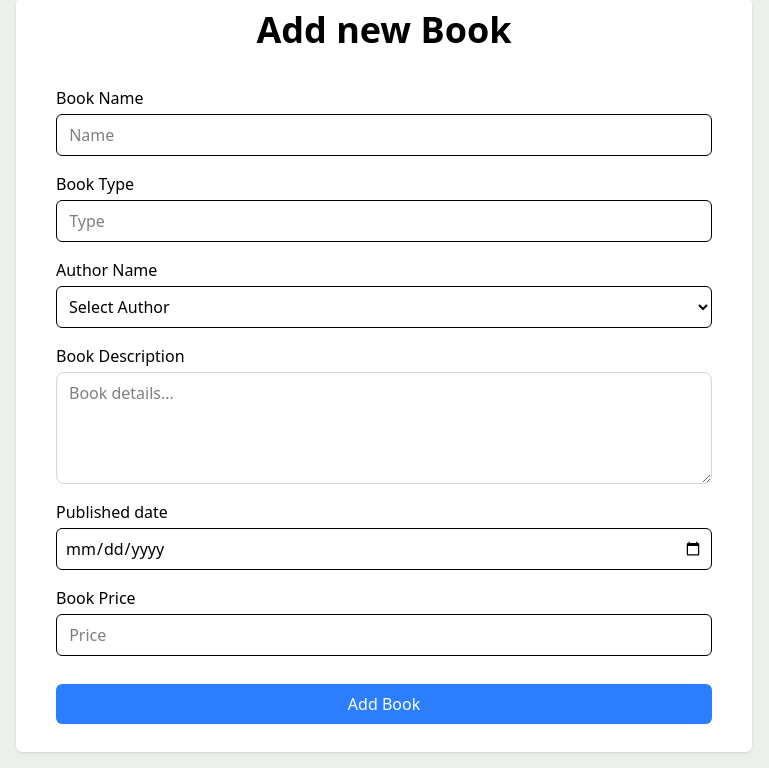
Test: BookForm › validates required fields
The width and height of the screenshot is (769, 768).
Click the button "Add Book" at (384, 704), box [56,684,712,724]
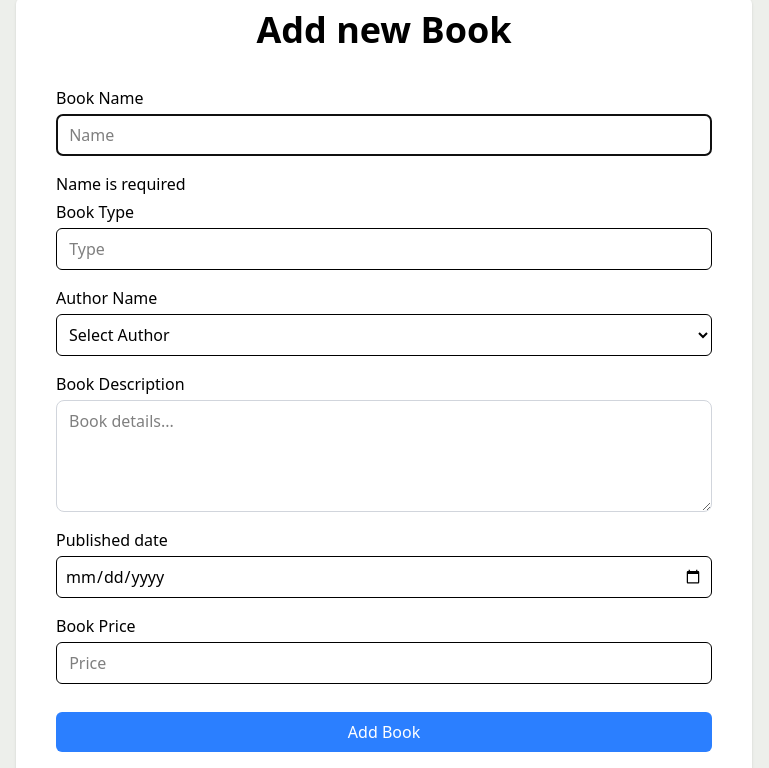
Now the text "Name is required" is shown, box [56,173,186,195]
